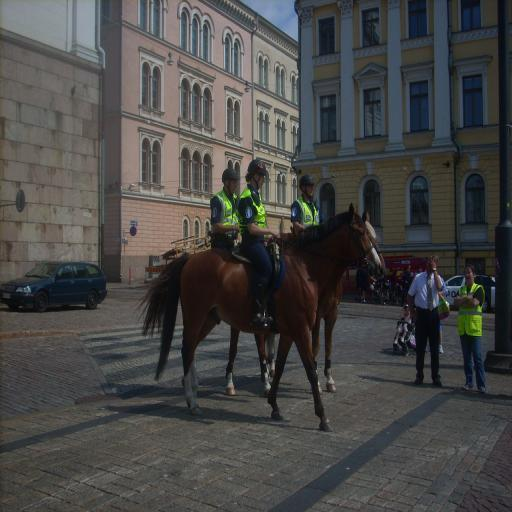horse: (134, 204, 382, 436), (224, 206, 384, 396)
